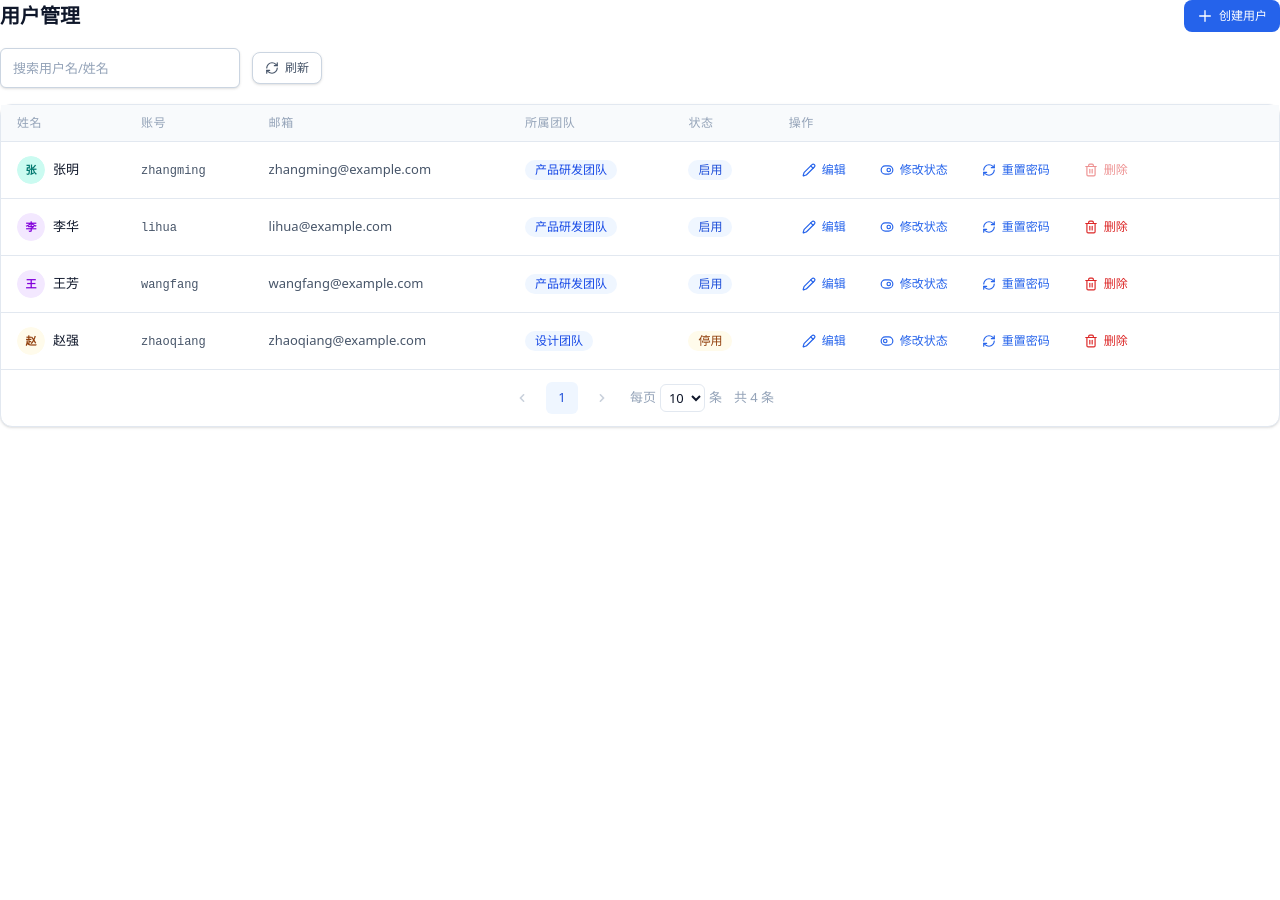
it: UserManagementPage › reset password dialog › shows error for weak password (less than 8 chars)
Check: the text "张明" is shown, box [53,160,79,180]
Click the button "重置密码" in the row of "李华" at (1016, 227), box [969,211,1063,243]
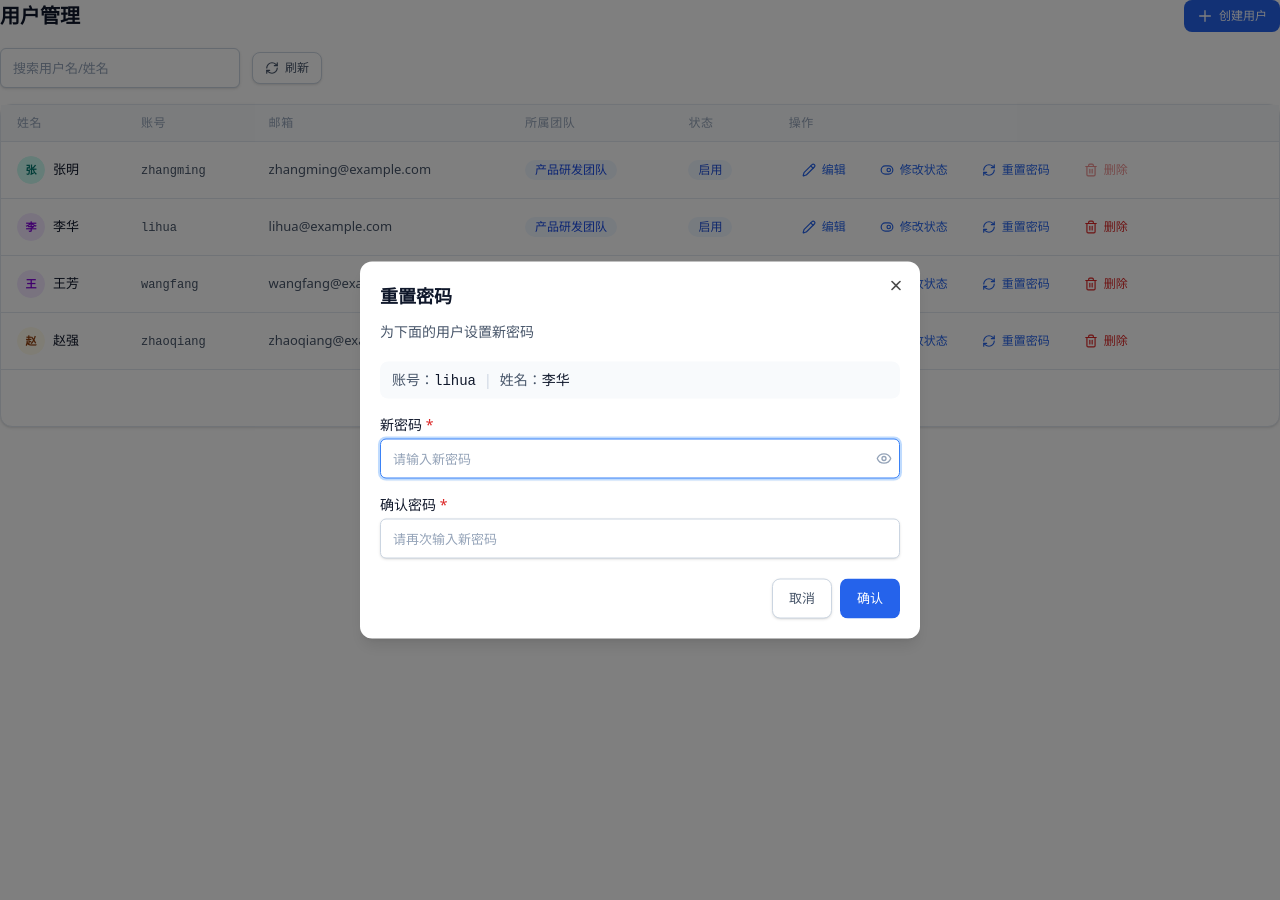
Check: the text "为下面的用户设置新密码" is shown, box [380,322,534,340]
// Type a short password
Type "Ab1" into the password field with placeholder "请输入新密码" at (640, 458), box [380,438,900,478]
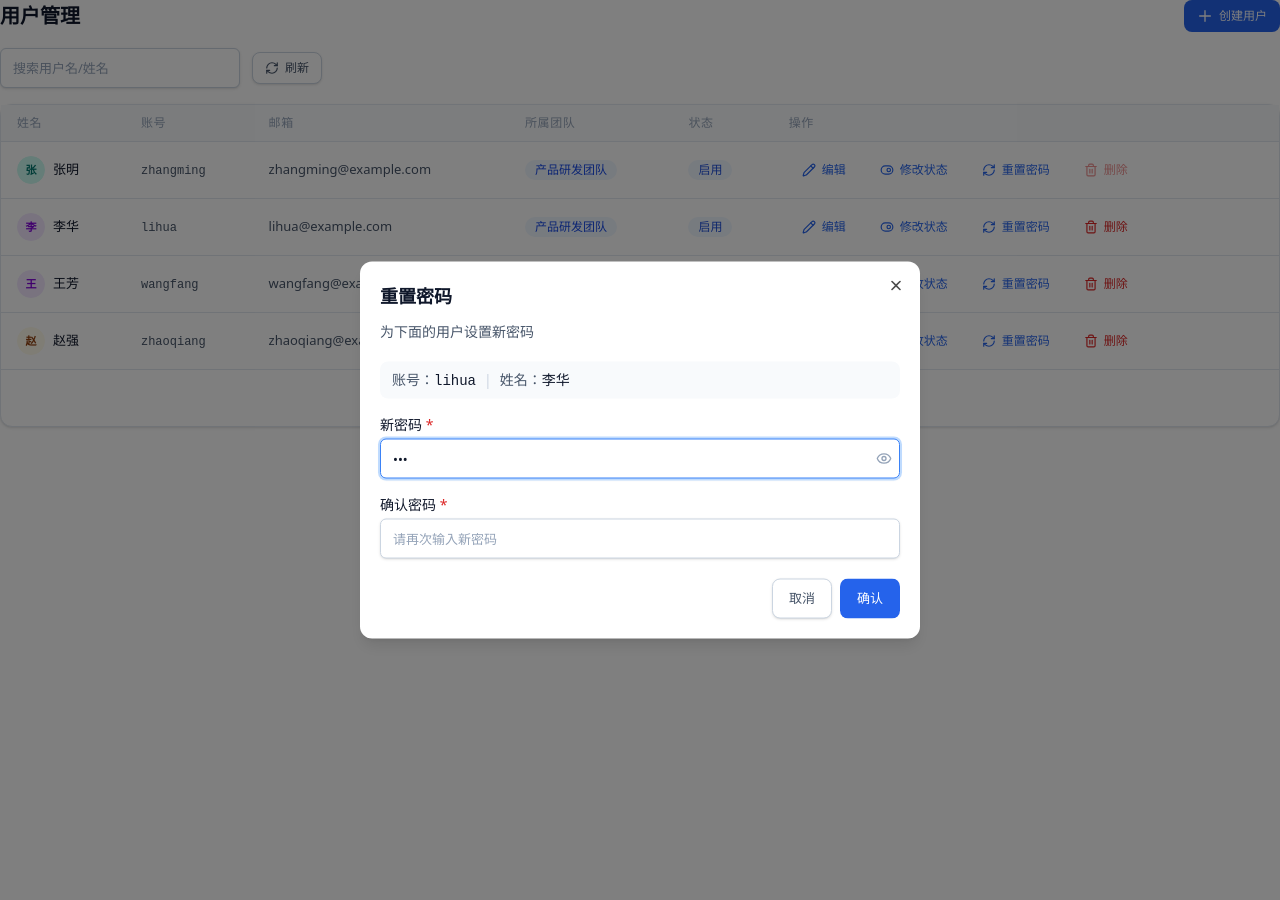
// Trigger blur validation
Press Tab
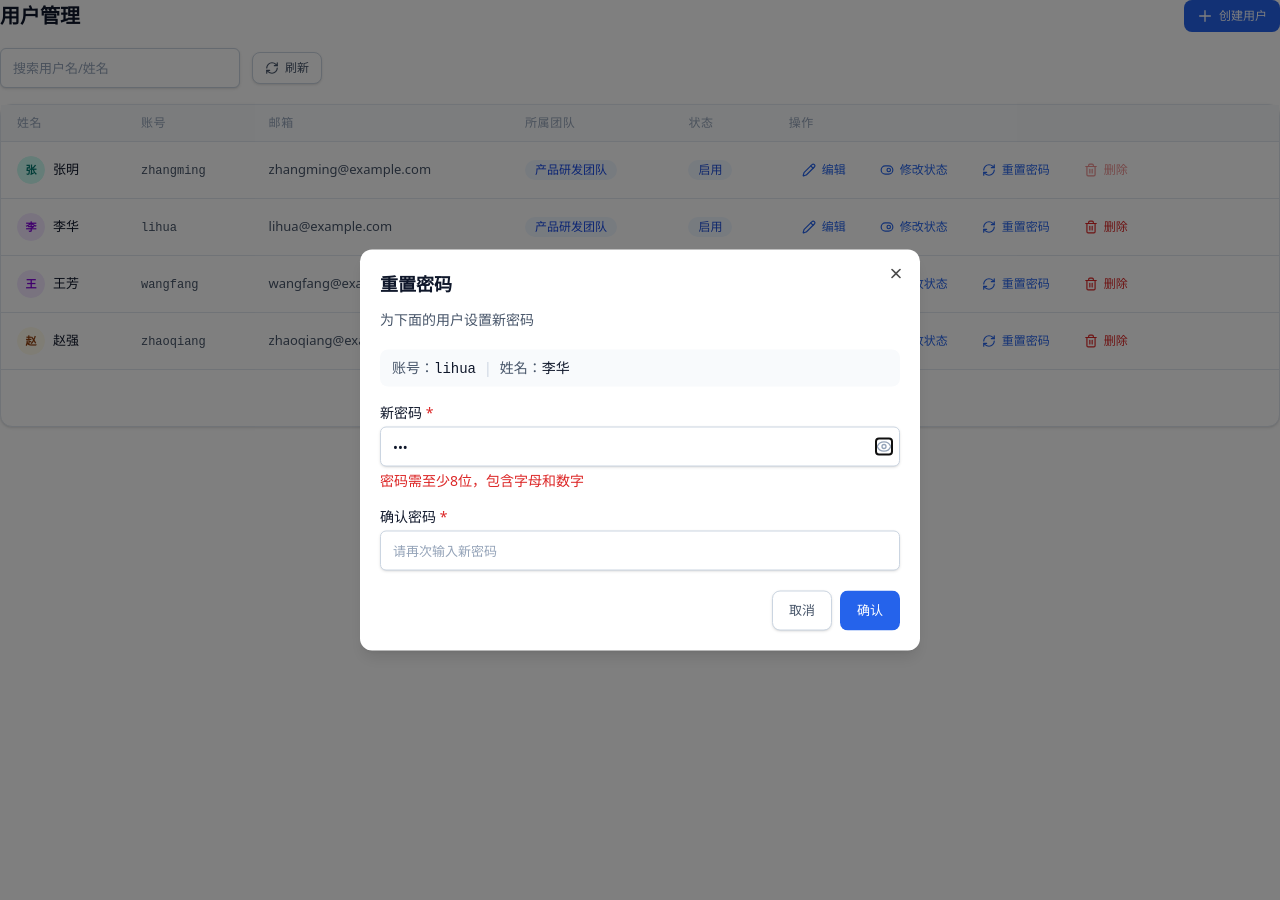
Check: the text "密码需至少8位，包含字母和数字" is shown, box [380,470,584,490]
